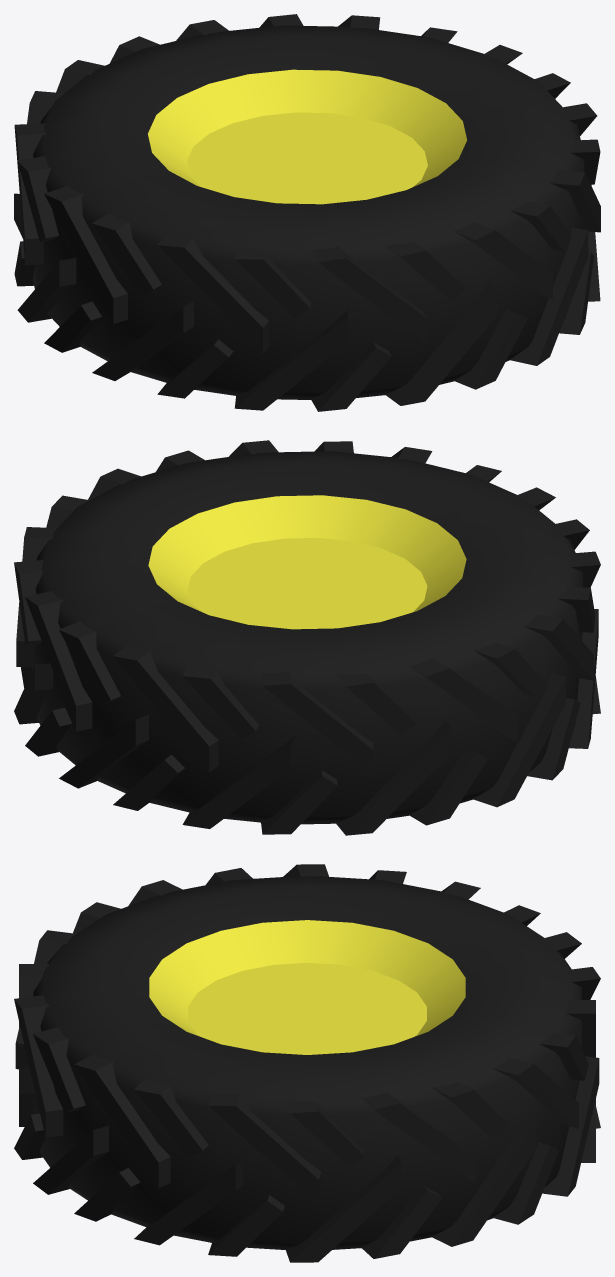
The model's file is rear_tire.obj.
3 views of the same model, one above another, from view 1: azimuth 30°, elevation 25°; view 2: azimuth 150°, elevation 25°; view 3: azimuth 270°, elevation 25° (orthographic).
Visible parts, largest first — view 1: tire, rims; view 2: tire, rims; view 3: tire, rims.
Part boxes in pixels (x1=…): tire: x1=14, y1=14, x2=600, y2=411; rims: x1=148, y1=69, x2=466, y2=204; tire: x1=14, y1=440, x2=600, y2=835; rims: x1=148, y1=495, x2=466, y2=629; tire: x1=14, y1=864, x2=600, y2=1262; rims: x1=149, y1=920, x2=465, y2=1054.
Bounding box in the file's own units: 1.5 × 0.4855 × 1.5.
